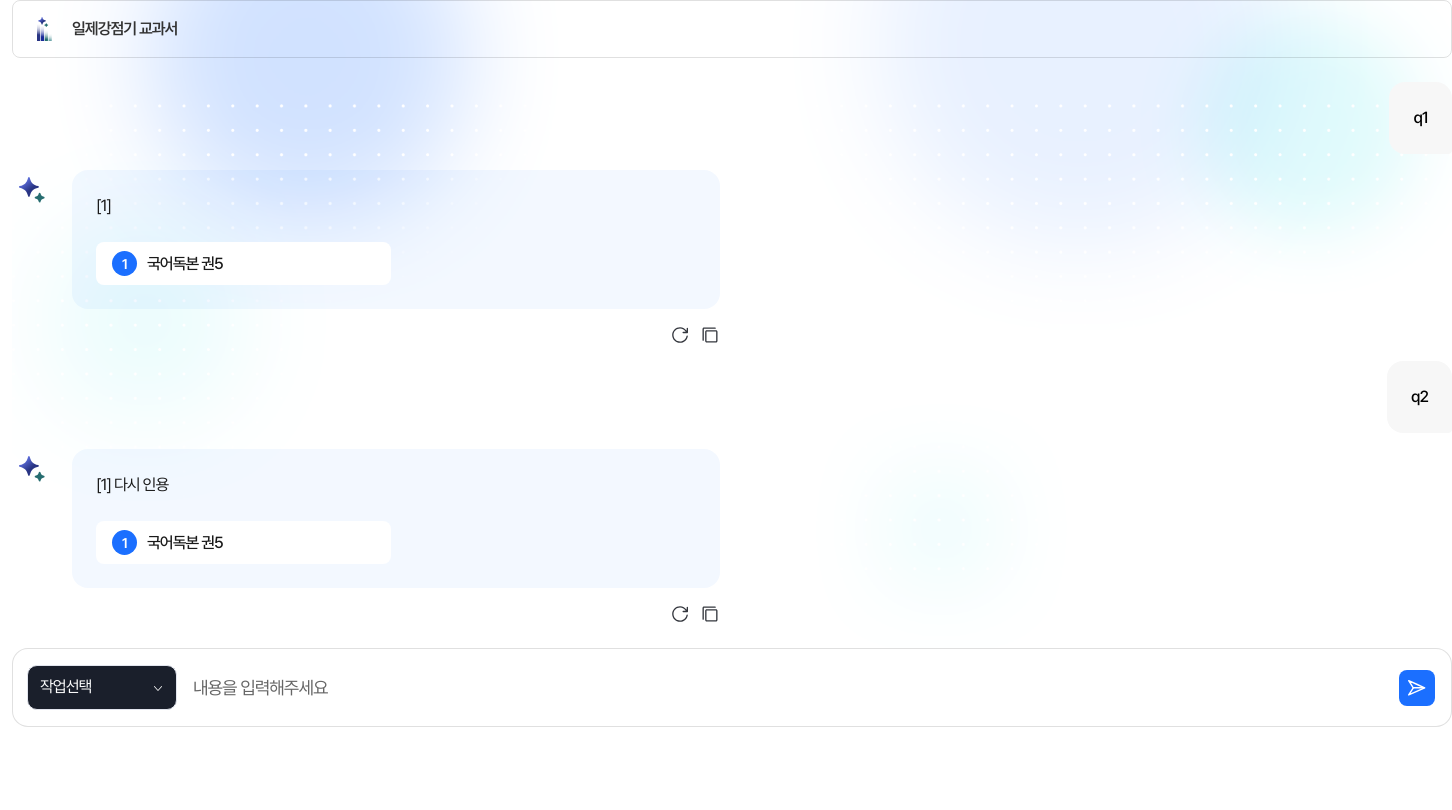
it: 설명문 생성(채팅 인라인, round07f 대화 턴) › 여러 턴에 걸쳐 같은 idnbr가 인용돼도 한 번만 센다
The image size is (1452, 810).
Click the button "작업선택": (102, 688) [27,665,177,710]
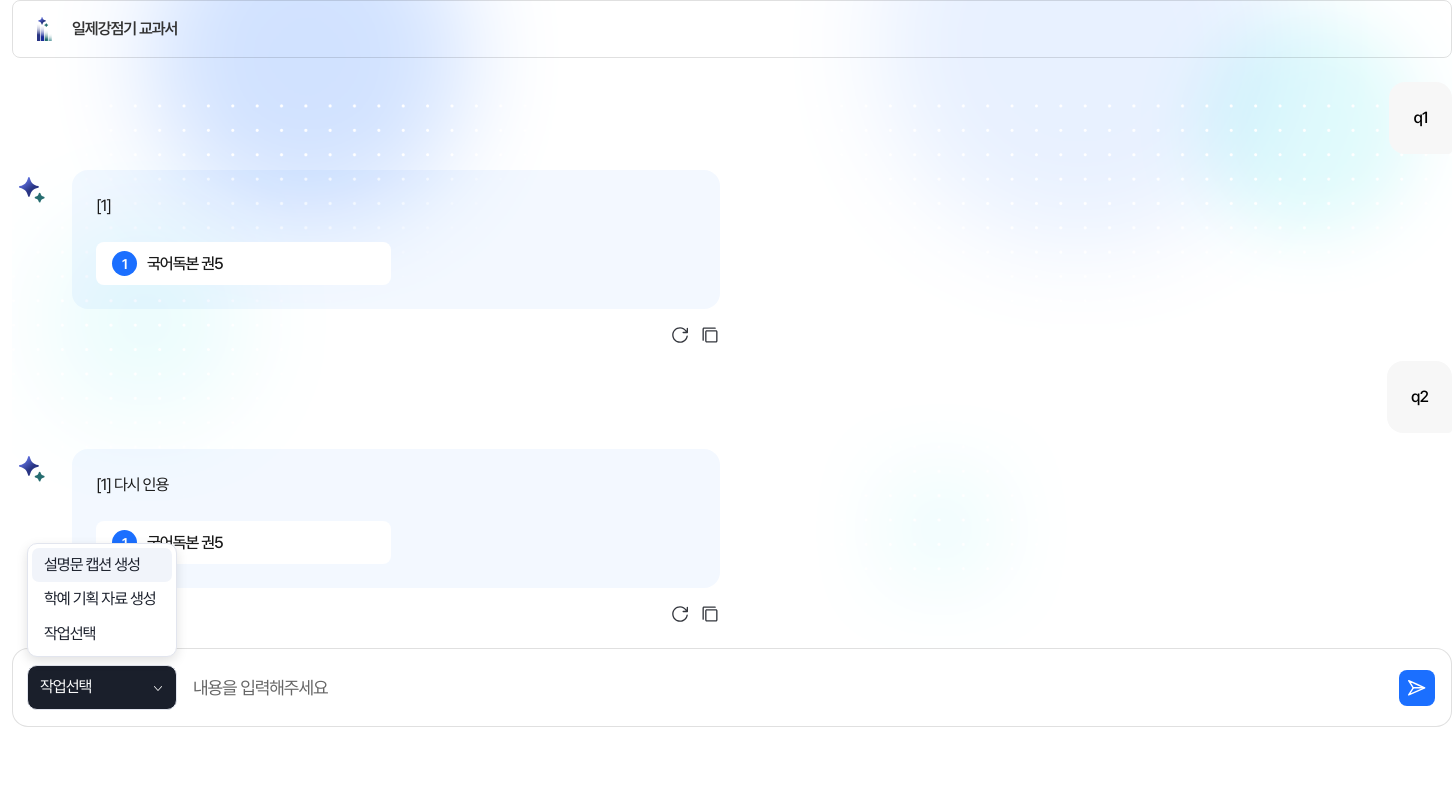
Click the option "설명문 캡션 생성": (102, 565) [32,548,172,582]
(page scrolled)
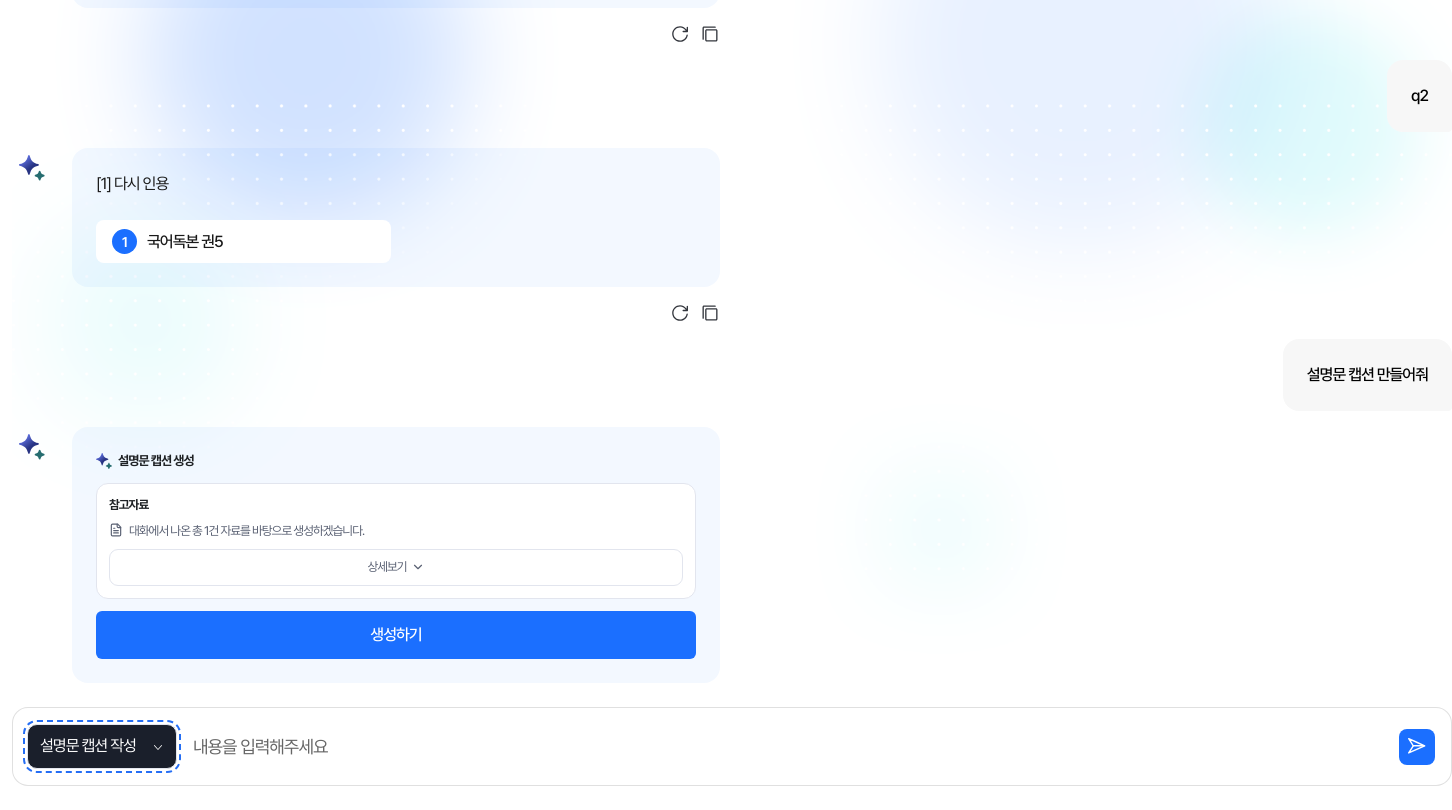
Now the text "대화에서 나온 총 1건 자료를 바탕으로 생성하겠습니다." is shown, box [109,523,364,538]
